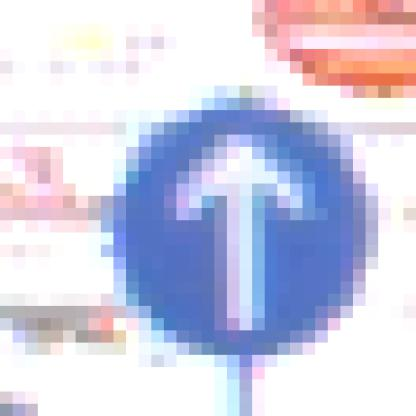AheadOnly: (77, 74, 354, 356)
